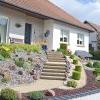stairs: (42, 63, 68, 82), (44, 50, 66, 62)
